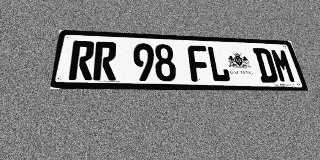8: (154, 44, 177, 81)
9: (133, 43, 155, 81)
D: (252, 48, 279, 83)
F: (187, 45, 211, 82)
L: (206, 46, 231, 82)
M: (270, 49, 297, 83)
R: (68, 40, 95, 80), (93, 41, 117, 81)
